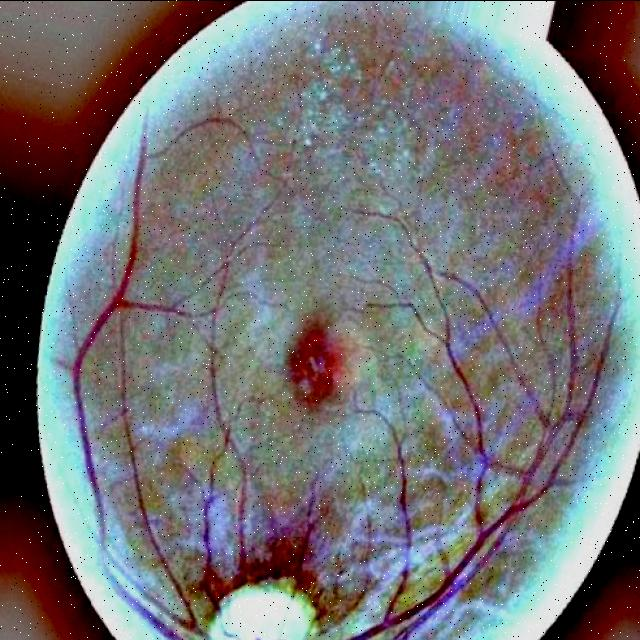Macula: (267, 306, 357, 424)
Nerves: (330, 278, 609, 640), (71, 128, 207, 640), (190, 300, 325, 608)
Optic Disk: (206, 569, 329, 640)
